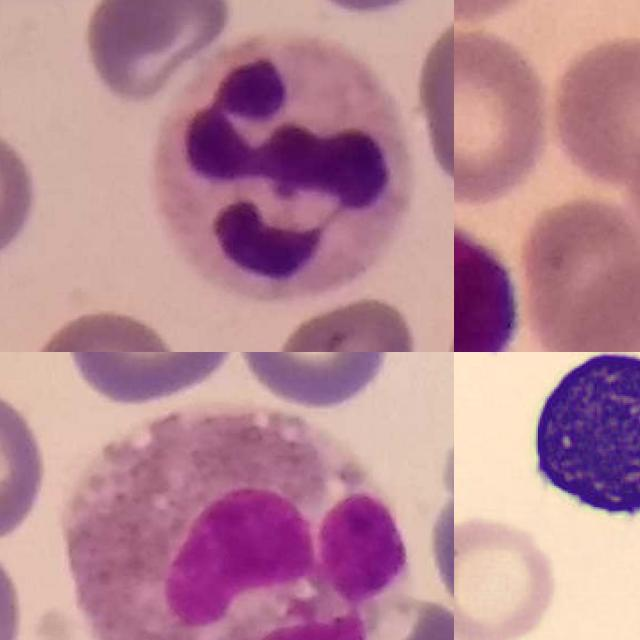Eosinophil: (61, 405, 415, 640)
Lymphocyte: (513, 352, 640, 533), (454, 211, 517, 352)
Neutrophil: (157, 30, 413, 298)
RBC: (454, 508, 562, 640)
